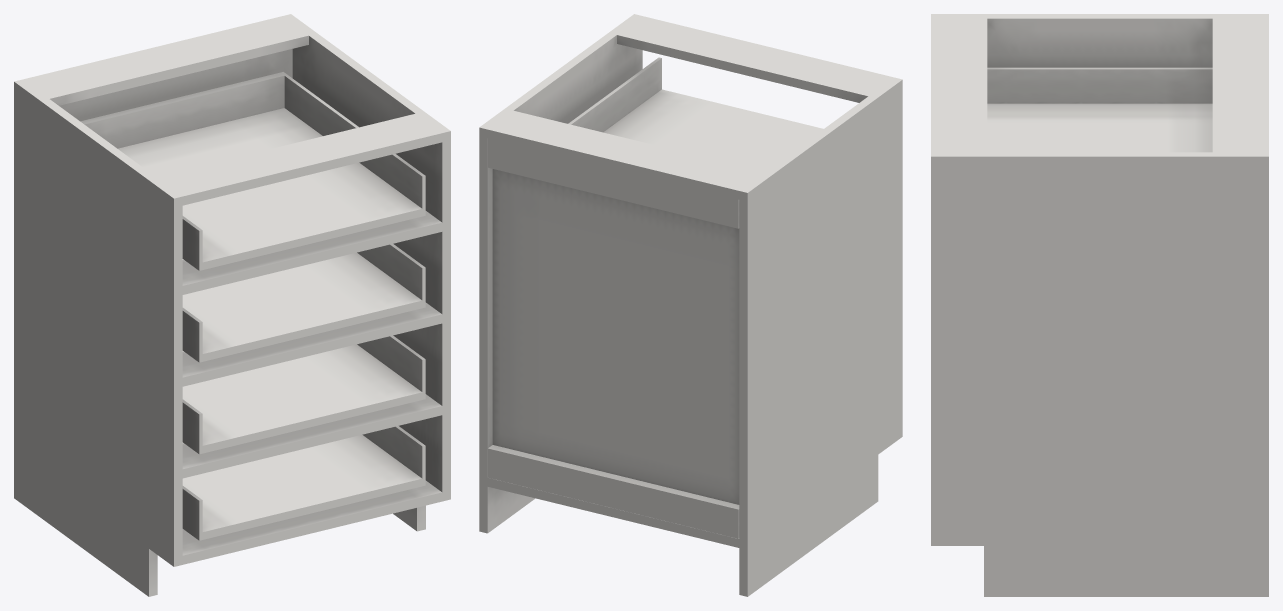
File: 4-drawer-equal-base-doors-off.glb
The picture shows the model from 3 angles, left to right: view 1: azimuth 30°, elevation 25°; view 2: azimuth 150°, elevation 25°; view 3: azimuth 270°, elevation 25°; orthographic projection. The views are drawn at different scales.
Visible parts, largest first — view 1: part_0, part_2; view 2: part_0, part_2; view 3: part_0, part_2.
Part boxes in pixels (x1,y1,x2,y2): part_0: [14, 14, 450, 596]; part_2: [80, 72, 425, 540]; part_0: [479, 14, 902, 596]; part_2: [568, 57, 823, 171]; part_0: [931, 14, 1268, 596]; part_2: [987, 67, 1212, 152].
Bounding box in the file's own units: 0.6096 × 0.8763 × 0.6096.
2 materials, 1 textured.
